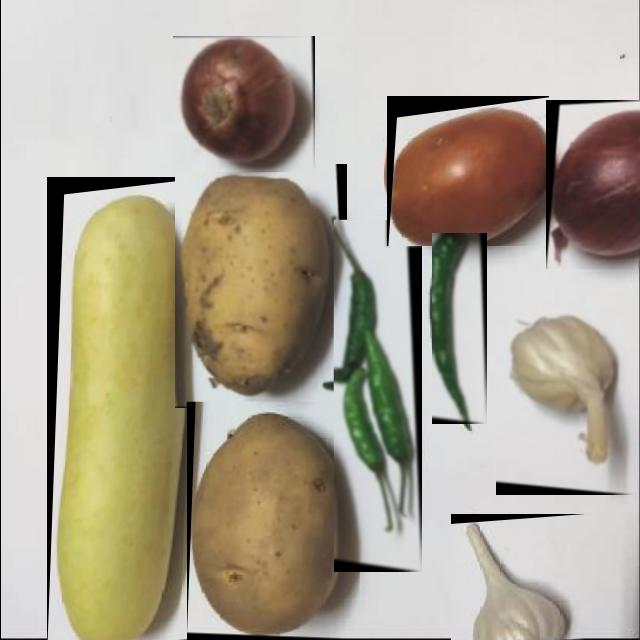2: (172, 36, 314, 172)
6: (46, 177, 194, 640)
Pepper: (333, 220, 421, 572), (431, 233, 486, 424)
garlic: (495, 313, 633, 495), (450, 514, 585, 640)
onion: (545, 100, 640, 269)
potato: (174, 164, 346, 408), (186, 402, 343, 640)
tomato: (386, 96, 548, 246)
